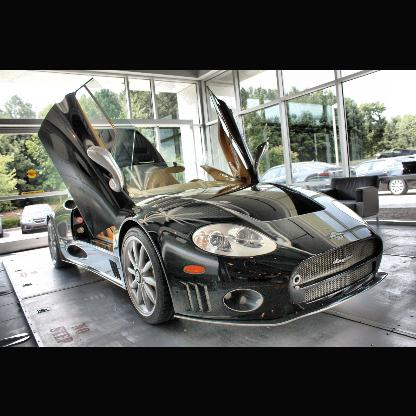Spyker C8 Convertible 2009: (36, 74, 391, 329)
